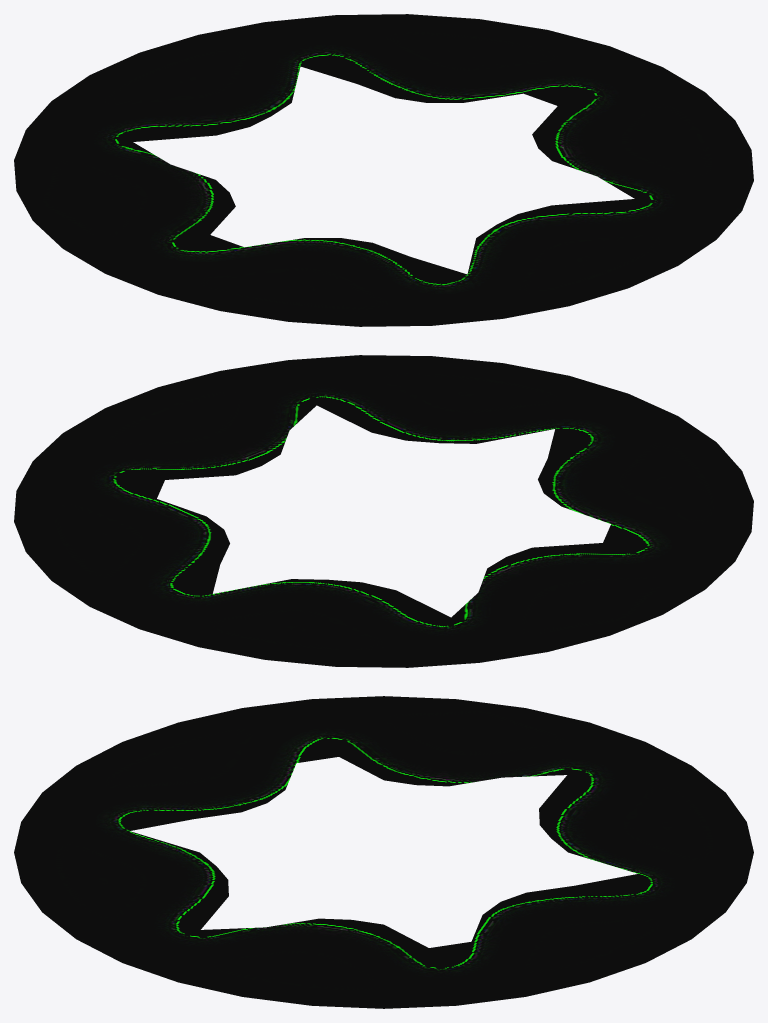
Rendered from GroundGuide.fbx.
3 renders of one model, top to bottom at view 1: azimuth 30°, elevation 25°; view 2: azimuth 150°, elevation 25°; view 3: azimuth 270°, elevation 25°, orthographic.
Visible parts, largest first — view 1: Ground.002; view 2: Ground.002; view 3: Ground.002.
Part boxes in pixels (<box>): Ground.002: <box>14,14,753,326</box>; Ground.002: <box>14,355,753,667</box>; Ground.002: <box>14,696,753,1008</box>.
Bounding box in the file's own units: 15000 × 0.00244 × 15000.
